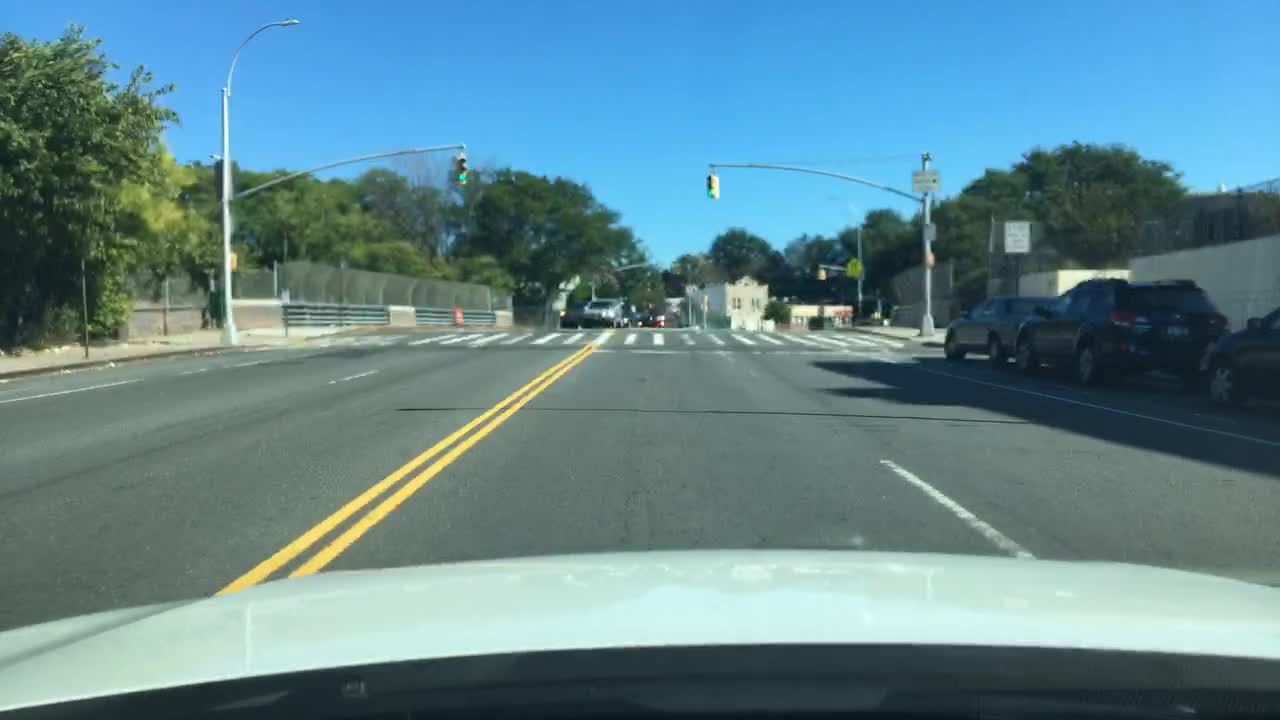car: (1014, 276, 1226, 398), (942, 294, 1057, 369), (1207, 308, 1278, 411), (580, 299, 625, 329), (557, 305, 573, 322), (650, 312, 665, 329), (635, 313, 648, 327), (623, 314, 635, 327)
traffic light: (453, 155, 469, 185), (703, 174, 719, 196), (817, 269, 826, 282)
traffic sign: (1003, 221, 1032, 252), (911, 170, 941, 189), (846, 258, 861, 278), (921, 223, 938, 240), (229, 253, 237, 270), (926, 253, 934, 263)
